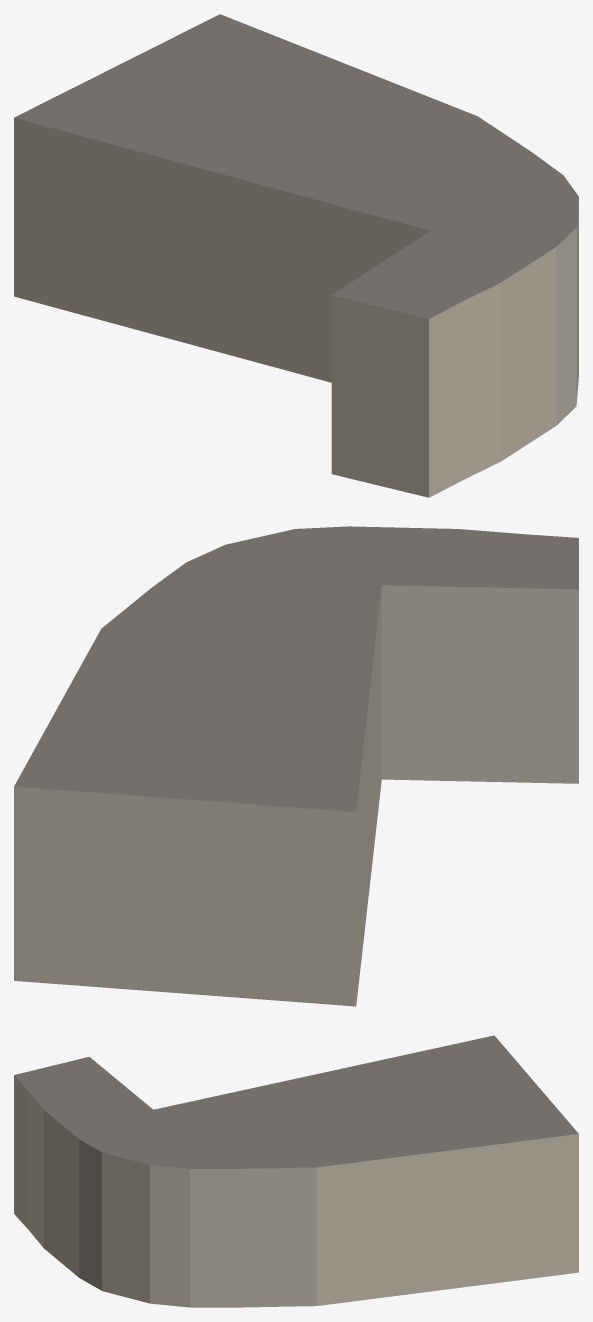
3 renders of one model, top to bottom at view 1: azimuth 30°, elevation 25°; view 2: azimuth 150°, elevation 25°; view 3: azimuth 270°, elevation 25°, orthographic. The views are drawn at different scales.
Visible parts, largest first — view 1: HP-w372180388; view 2: HP-w372180388; view 3: HP-w372180388.
Part boxes in pixels (left/top/right/bottom): HP-w372180388: left=14, top=14, right=578, bottom=497; HP-w372180388: left=14, top=526, right=578, bottom=1006; HP-w372180388: left=14, top=1035, right=578, bottom=1307.
Size of the model in its own units: 37.17 by 18 by 66.48.
